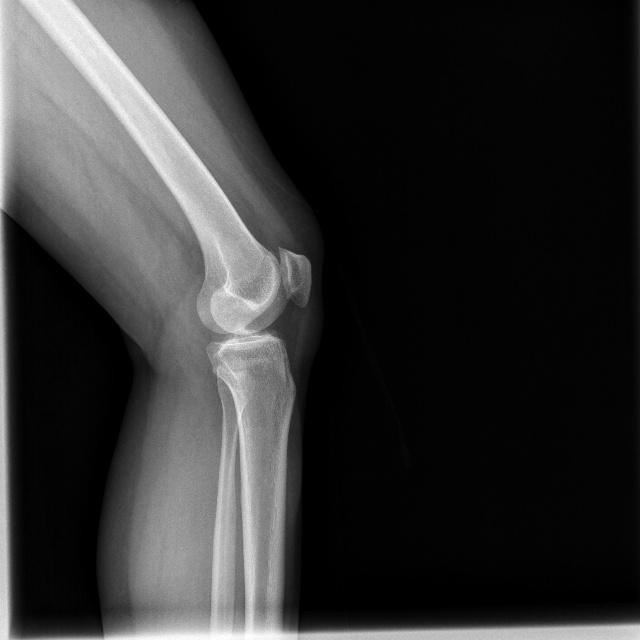Knee: (189, 245, 314, 380)
